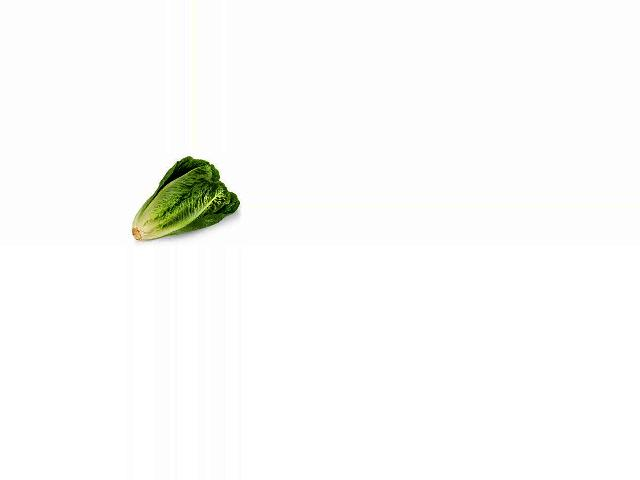lettuce: (124, 157, 239, 243)
